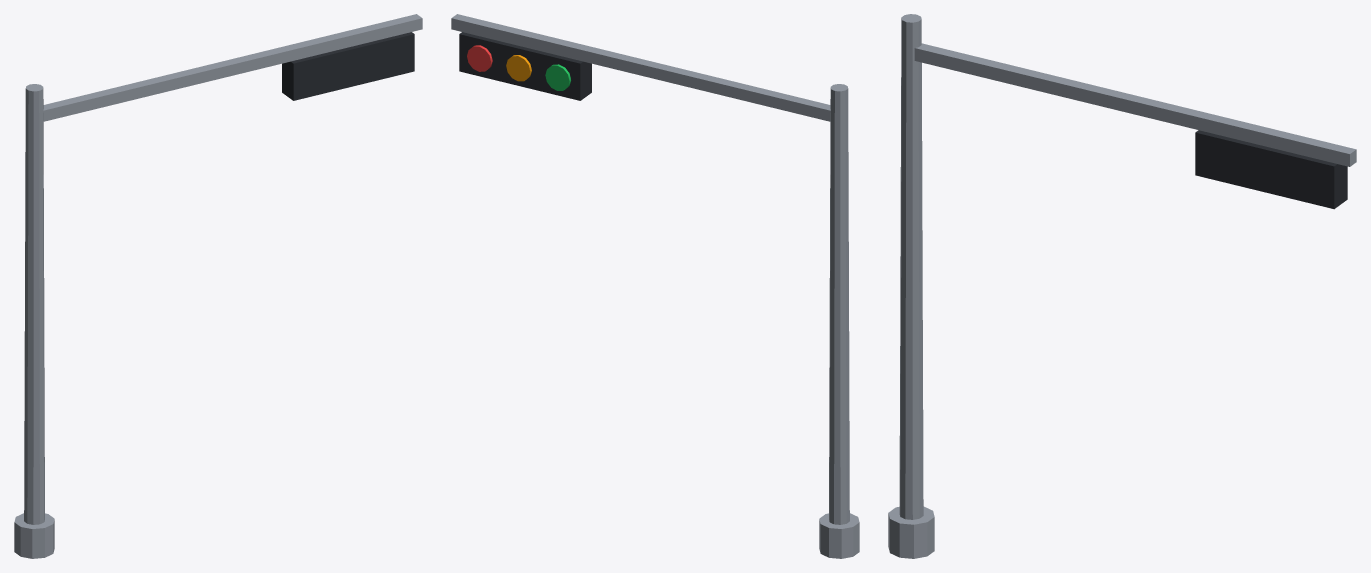
The model's file is traffic_light_car.glb.
3 views of the same model, side by side, from view 1: azimuth 30°, elevation 25°; view 2: azimuth 150°, elevation 25°; view 3: azimuth 330°, elevation 25° (orthographic). The views are drawn at different scales.
Parts seen in each view (by area): view 1: Body; view 2: Body, LampRed, LampYellow, LampGreen; view 3: Body.
Part boxes in pixels (box(x1,y1,x2,y2)): Body: box(14, 14, 422, 558); Body: box(451, 14, 859, 558); LampRed: box(467, 45, 492, 71); LampYellow: box(506, 55, 531, 81); LampGreen: box(545, 64, 570, 90); Body: box(888, 14, 1356, 558).
Bounding box in the file's own units: 5.64 × 6.2 × 0.5.
